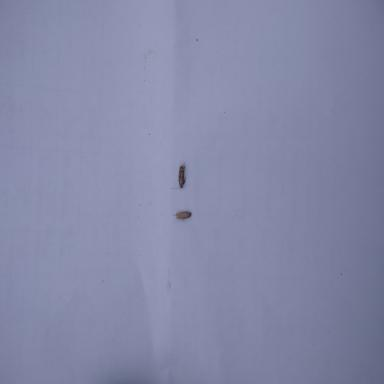pbw: (170, 162, 191, 189), (172, 210, 192, 222)
